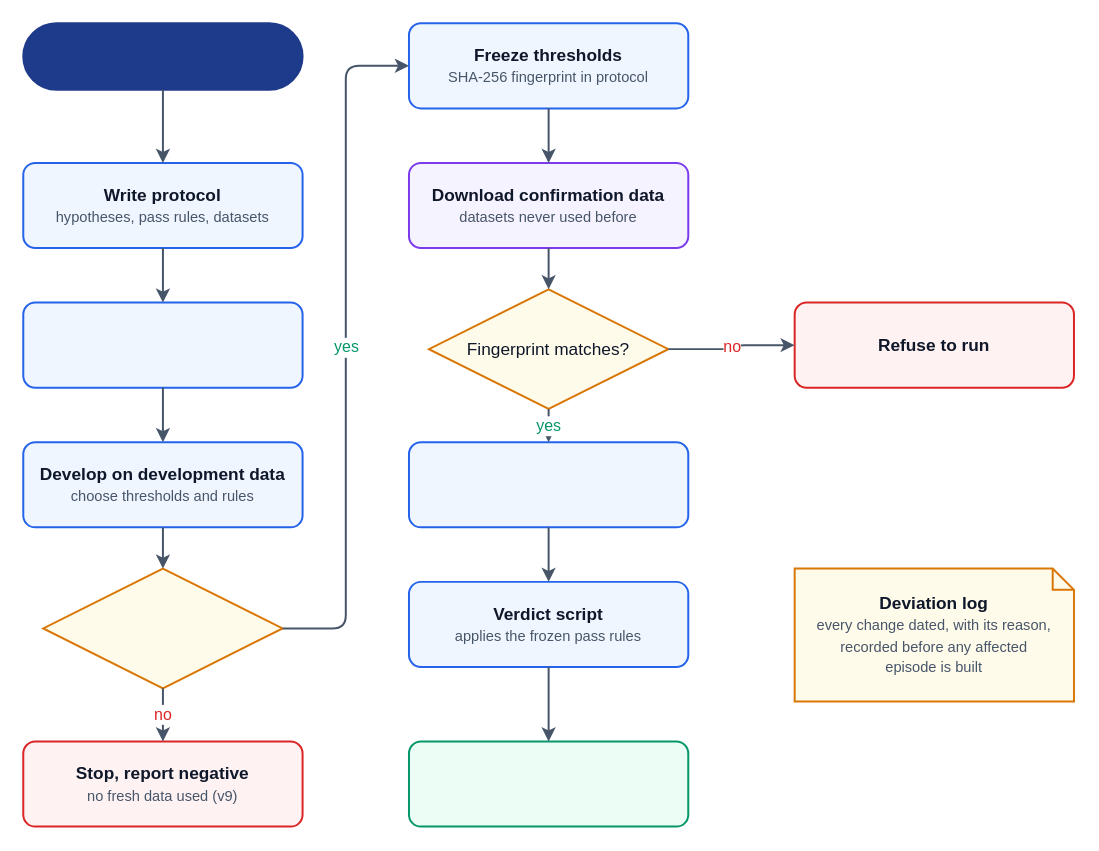
Image size: 1099x851. Some labels were removed from this diagram. The centre of each missing label's shape, as x and y in pixels:
Commit config module timestamped in git: the point at 162,344
Development gate passed?: the point at 162,628
New idea after a verdict: the point at 162,56
One-time confirmation run: the point at 548,484
Publish verdict success, partial success or failure: the point at 548,783
